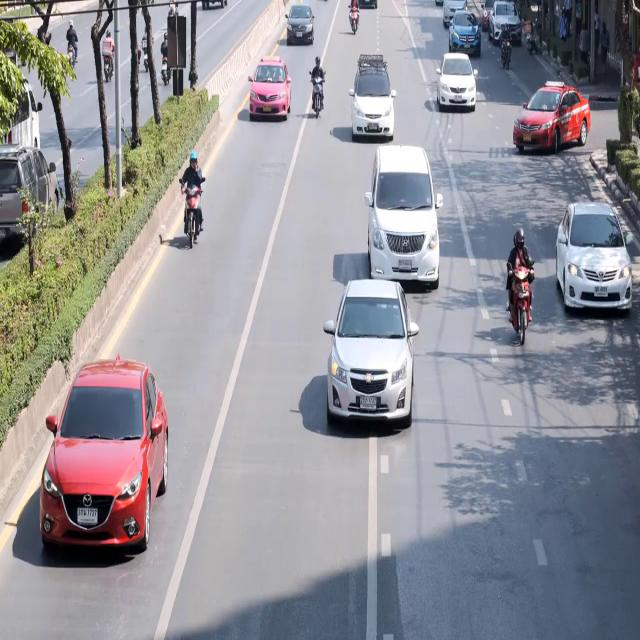bike: (506, 226, 536, 341), (183, 152, 204, 246), (310, 54, 324, 119), (347, 1, 360, 32)
car: (45, 359, 162, 544), (326, 276, 416, 431), (555, 197, 634, 306), (513, 85, 591, 154), (350, 58, 399, 141), (249, 58, 291, 121), (436, 55, 476, 112), (488, 1, 525, 43), (450, 12, 483, 50), (286, 5, 316, 45)
